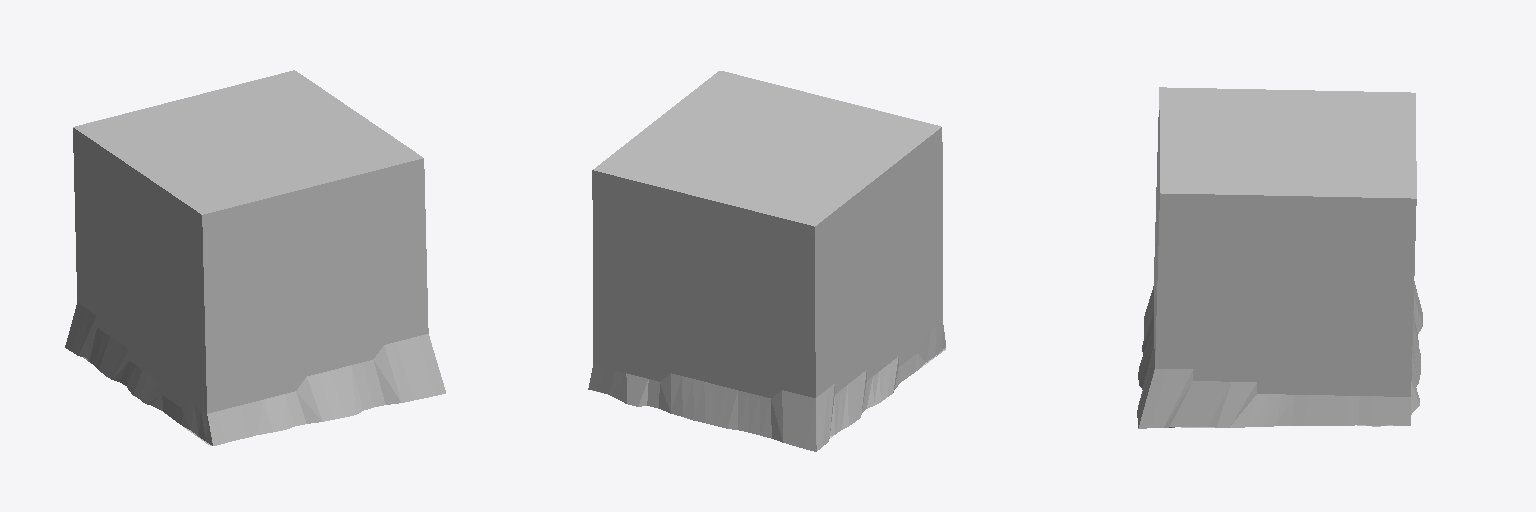
Rendered from mod0057.obj.
3 renders of one model, left to right at view 1: azimuth 30°, elevation 25°; view 2: azimuth 150°, elevation 25°; view 3: azimuth 270°, elevation 25°, orthographic.
Parts seen in each view (by area): view 1: Box001; view 2: Box001; view 3: Box001.
Part boxes in pixels (left/top/right/bottom): Box001: left=65, top=70, right=445, bottom=445; Box001: left=588, top=71, right=945, bottom=451; Box001: left=1137, top=87, right=1422, bottom=428.
Bounding box in the file's own units: 0.5799 × 0.5331 × 0.5979.